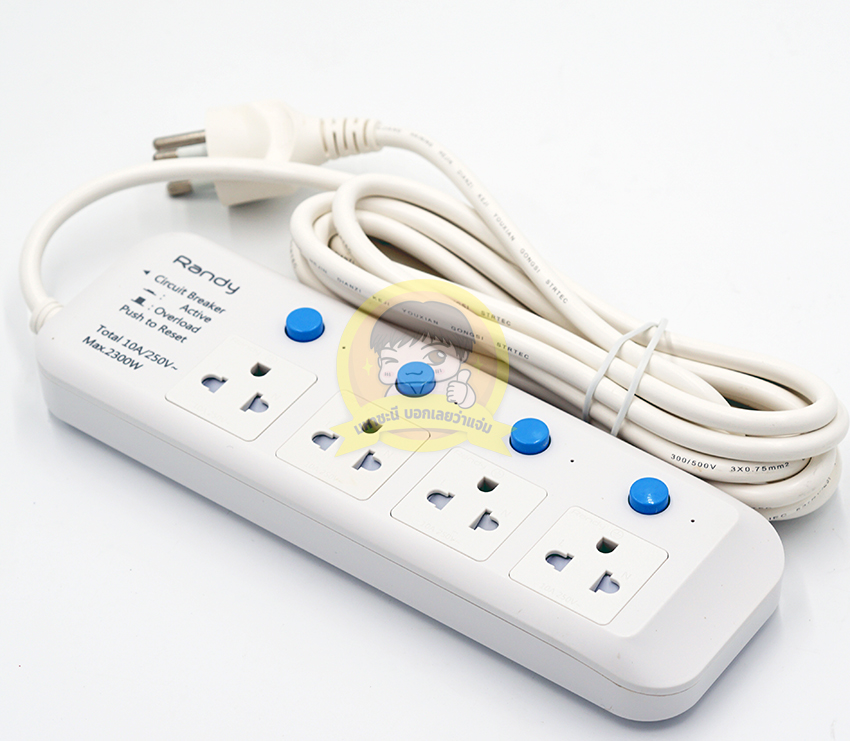Three_eye_plug: (29, 221, 795, 736)
